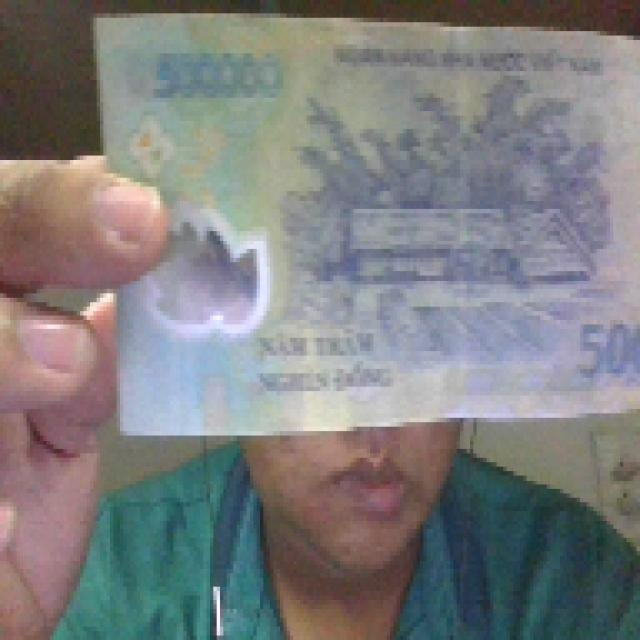500 000 VND: (86, 4, 636, 440)
